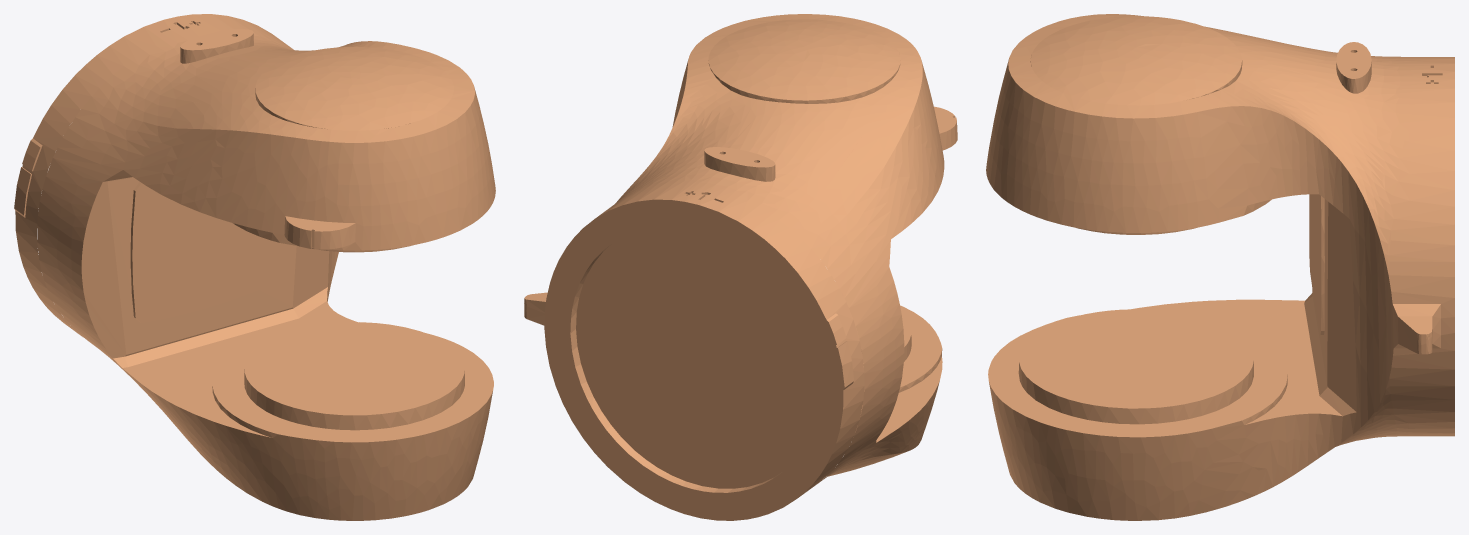
The picture shows the model from 3 angles, left to right: view 1: azimuth 30°, elevation 25°; view 2: azimuth 150°, elevation 25°; view 3: azimuth 270°, elevation 25°; orthographic projection. The views are drawn at different scales.
Parts seen in each view (by area): view 1: /link_1/link_1-mesh/0; view 2: /link_1/link_1-mesh/0; view 3: /link_1/link_1-mesh/0.
Part boxes in pixels (x1,y1,x2,y2): /link_1/link_1-mesh/0: [14, 14, 495, 520]; /link_1/link_1-mesh/0: [524, 14, 957, 520]; /link_1/link_1-mesh/0: [986, 14, 1454, 520].
Size of the model in its own units: 0.2429 by 0.276 by 0.2694.
